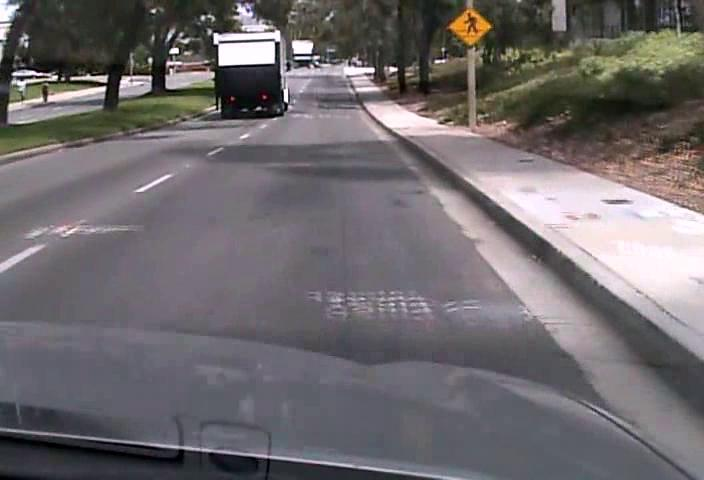pedestrianCrossing: (447, 5, 493, 46)
